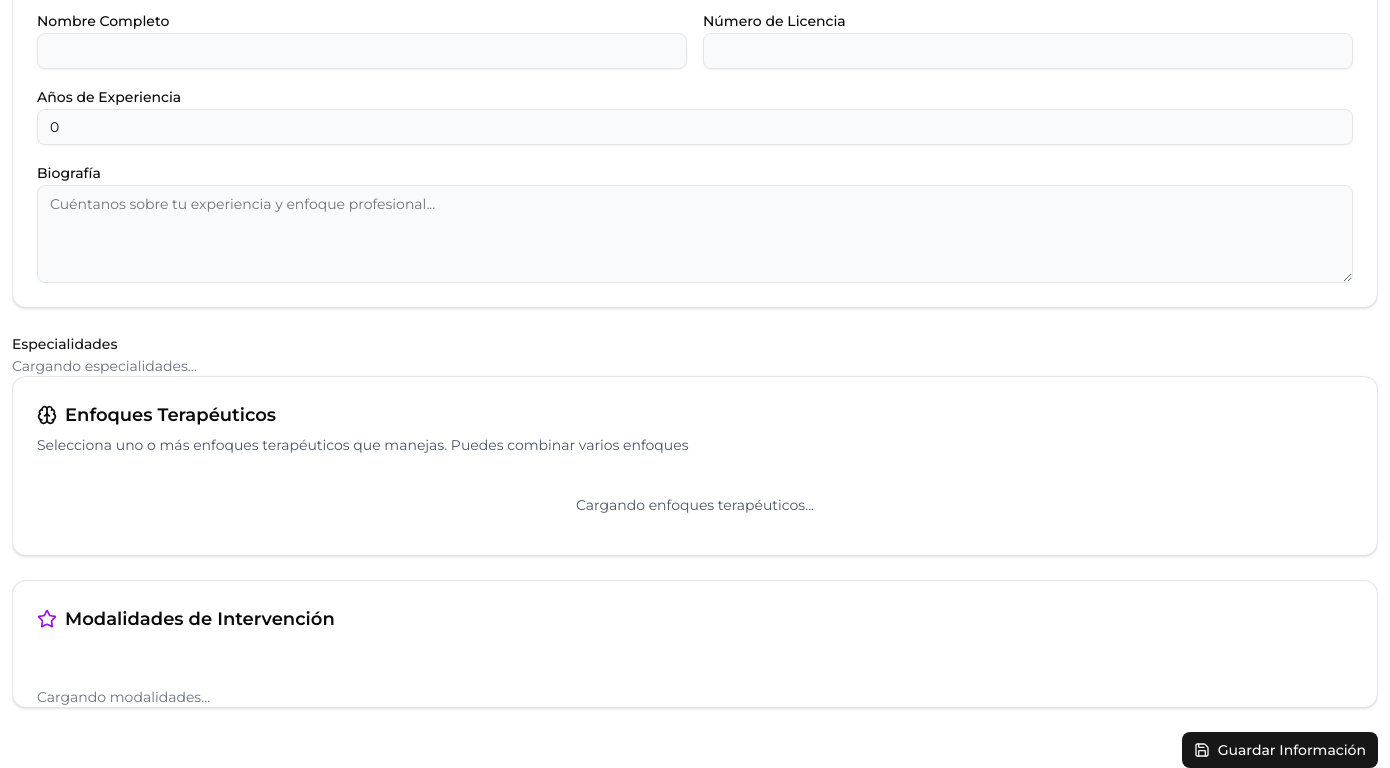
Test: ProfessionalInfoForm › should show loading state during save
(page scrolled)
Click the button "Guardar Información" at (1280, 750), box [1182, 732, 1378, 767]
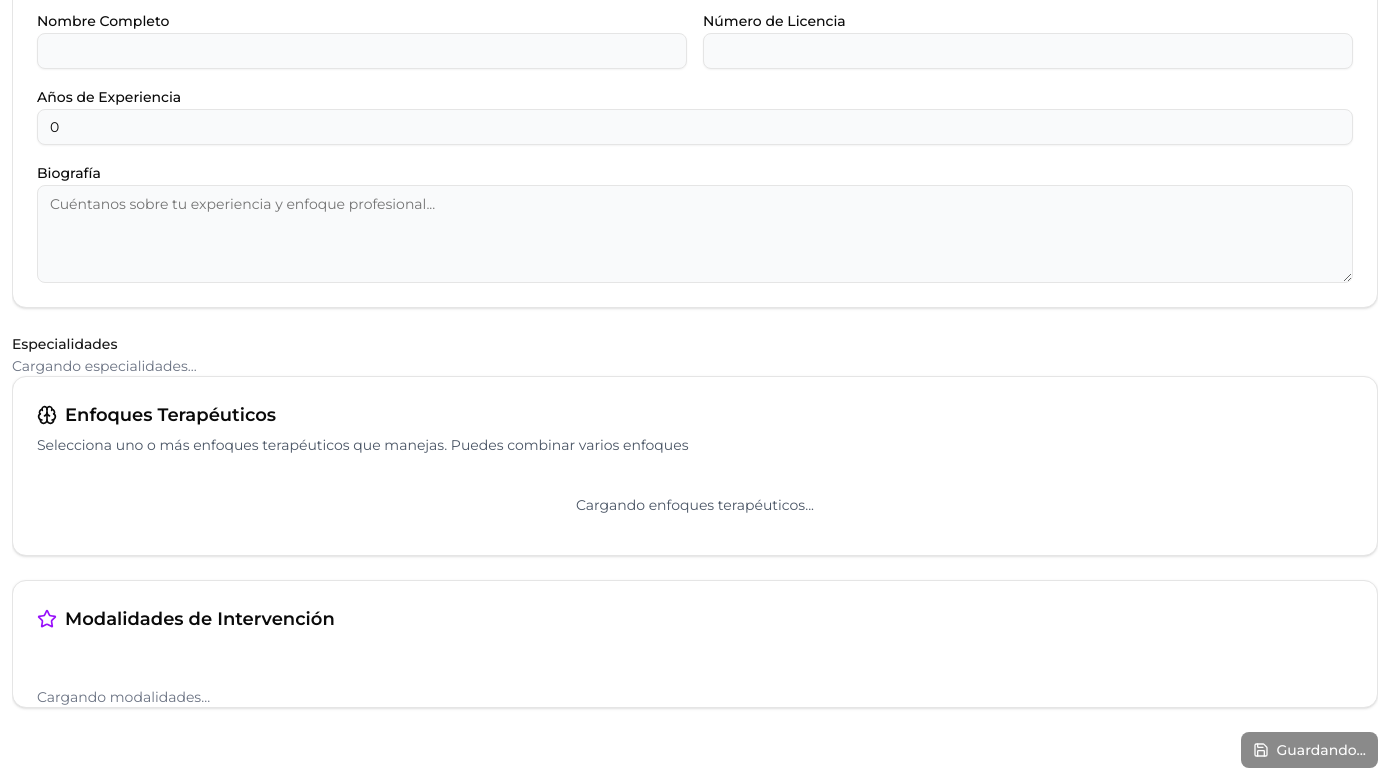
Expected: the button "Guardando..." is disabled, [1240, 732, 1378, 767]
